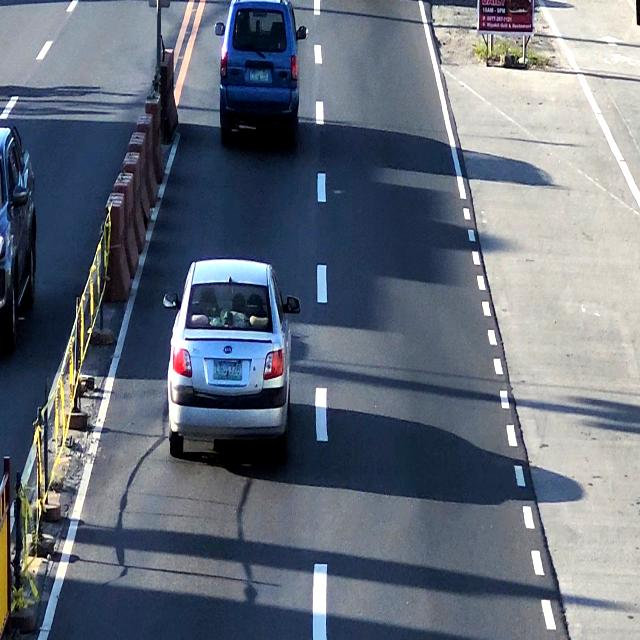Car: (170, 255, 290, 454), (219, 0, 304, 142)
License-Plate: (214, 358, 244, 384), (248, 66, 271, 86)
